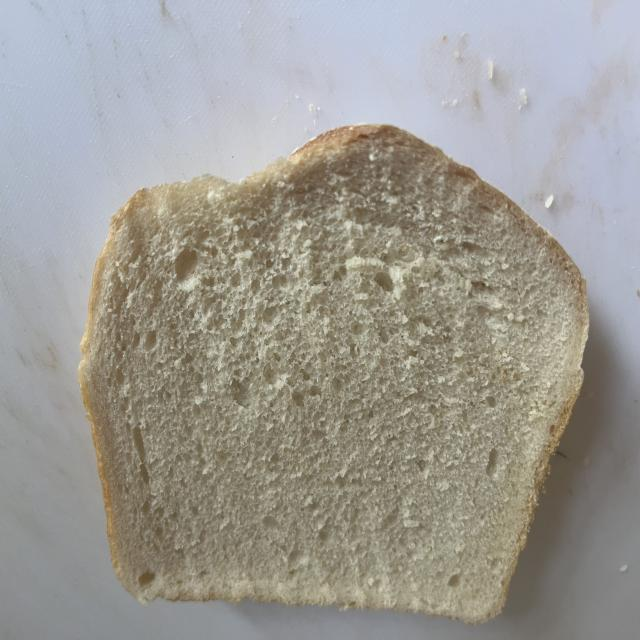sliced_bread: (80, 126, 588, 623)
